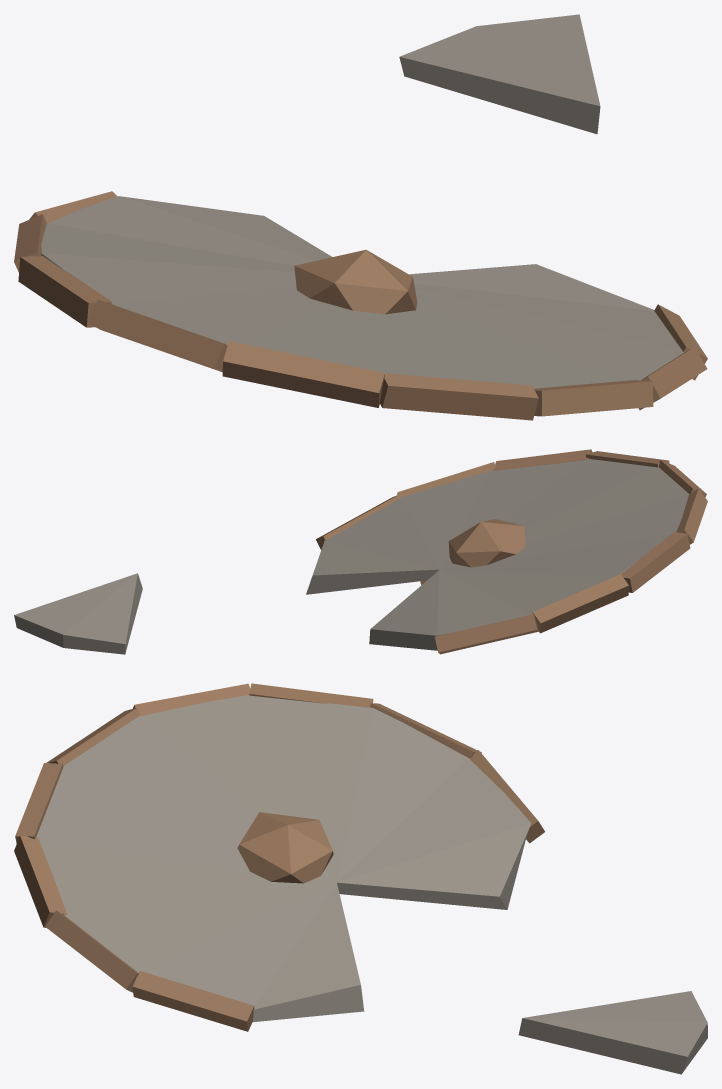
The model's file is prop_shield_broken.glb.
The picture shows the model from 3 angles, top to bottom: view 1: azimuth 30°, elevation 25°; view 2: azimuth 150°, elevation 25°; view 3: azimuth 270°, elevation 25°; orthographic projection. The views are drawn at different scales.
Parts seen in each view (by area): view 1: prop_shield_broken_mesh; view 2: prop_shield_broken_mesh; view 3: prop_shield_broken_mesh.
Part boxes in pixels (bbox=[...]): prop_shield_broken_mesh: bbox=[14, 14, 707, 420]; prop_shield_broken_mesh: bbox=[14, 449, 707, 654]; prop_shield_broken_mesh: bbox=[14, 683, 707, 1074].
Size of the model in its own units: 1.23 by 0.2653 by 1.23.
